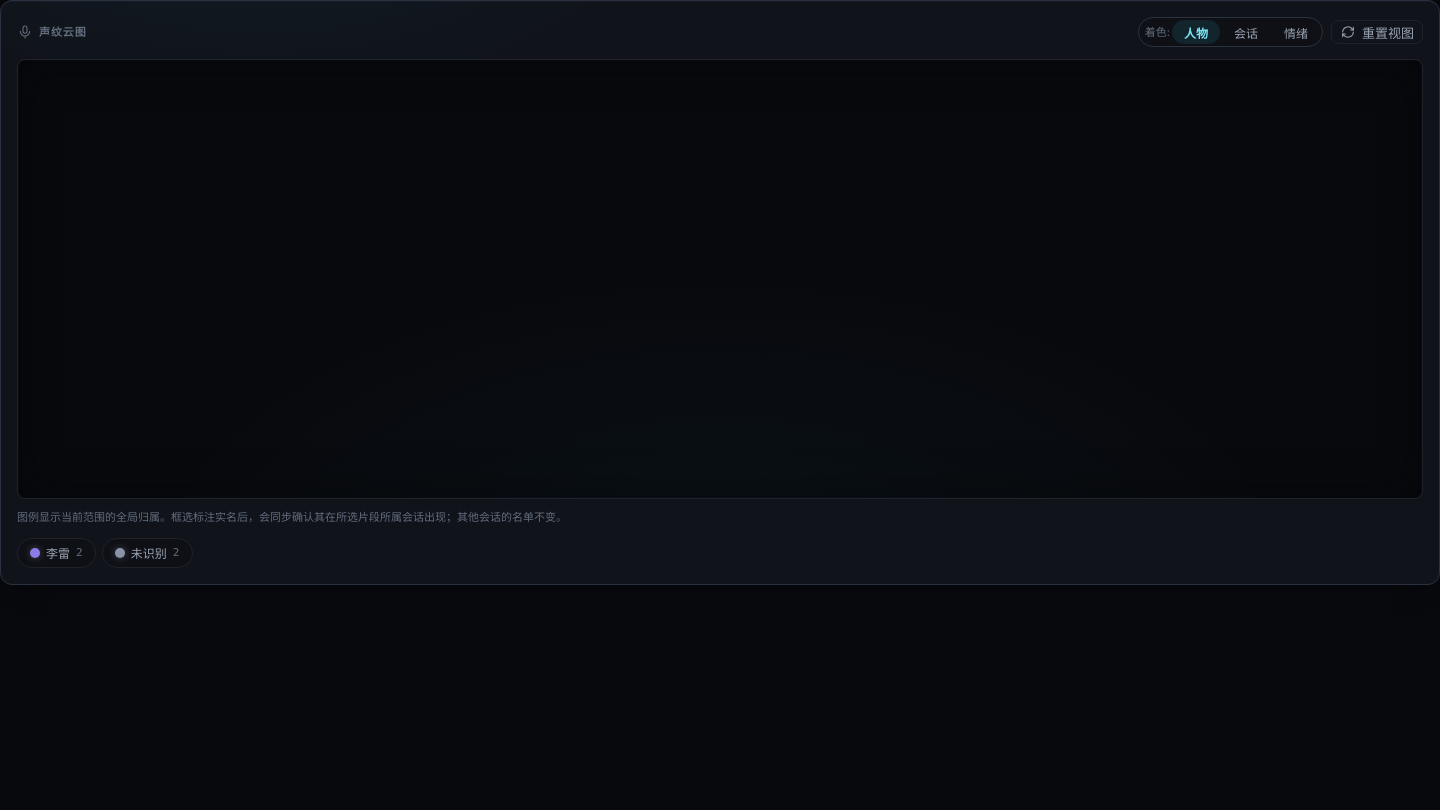
it: VoiceprintMap › toggling to 会话 colour mode renders a per-session legend
Expected: the list named "图例" is shown, [17, 538, 192, 568]
Click the button "会话". click: (1246, 32)
box: [1222, 20, 1270, 44]
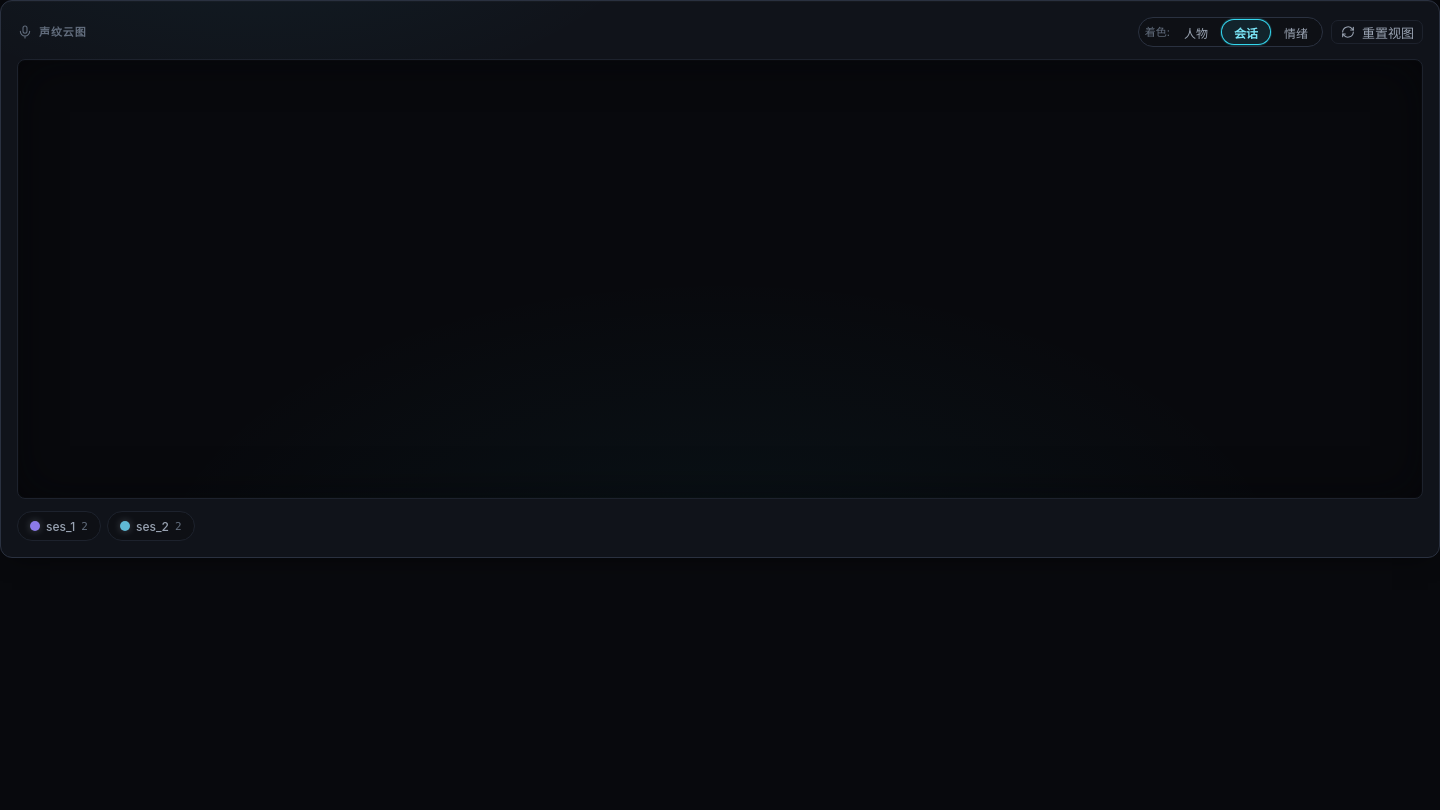
Expected: the list named "图例" shows "ses_1", [17, 511, 101, 541]
Expected: the list named "图例" shows "ses_2", [107, 511, 195, 541]
